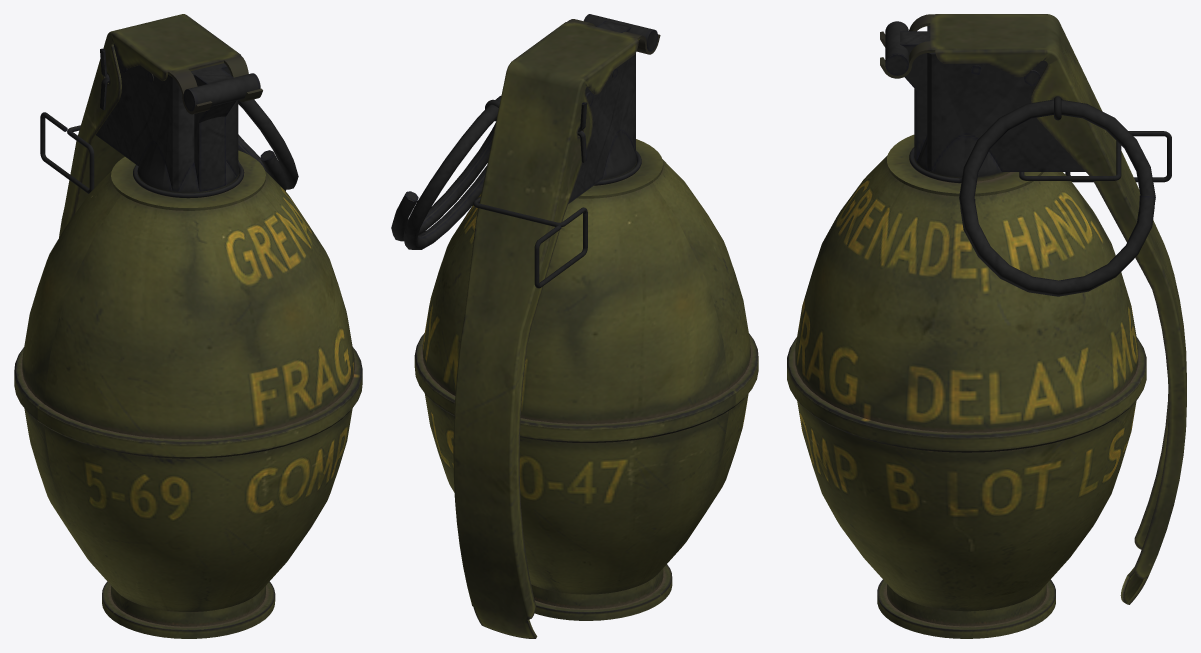
Rendered from gran_2.fbx.
3 views of the same model, side by side, from view 1: azimuth 30°, elevation 25°; view 2: azimuth 150°, elevation 25°; view 3: azimuth 270°, elevation 25° (orthographic). The views are drawn at different scales.
Visible parts, largest first — view 1: gran2.body, gran2.hand, gran2.key, gran2.holder; view 2: gran2.body, gran2.hand, gran2.key, gran2.holder; view 3: gran2.body, gran2.hand, gran2.key, gran2.holder.
Part boxes in pixels (left/top/right/bottom): gran2.body: left=14, top=43, right=362, bottom=638; gran2.hand: left=59, top=14, right=262, bottom=237; gran2.key: left=103, top=51, right=298, bottom=190; gran2.holder: left=40, top=112, right=244, bottom=198; gran2.body: left=405, top=20, right=758, bottom=620; gran2.hand: left=453, top=14, right=660, bottom=638; gran2.key: left=391, top=95, right=583, bottom=249; gran2.holder: left=473, top=150, right=641, bottom=288; gran2.body: left=787, top=26, right=1146, bottom=638; gran2.hand: left=880, top=14, right=1186, bottom=604; gran2.key: left=959, top=96, right=1155, bottom=296; gran2.holder: left=909, top=131, right=1171, bottom=183.
Bounding box in the file's own units: 4.32 × 7.52 × 4.79.
1 material, 1 textured.
